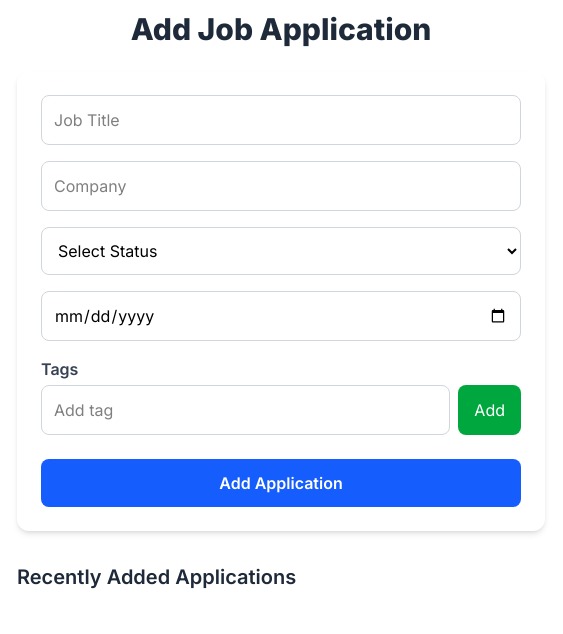
Test: AddPageContent › adds and removes a tag
Type "remote" into the field with placeholder "Add tag" at (246, 410), box 41,385 -> 450,435
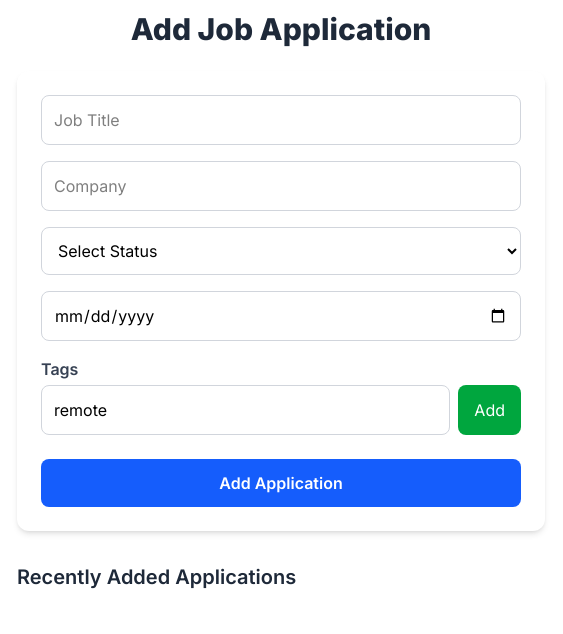
Click the button "Add" at (490, 410), box 458,385 -> 521,435
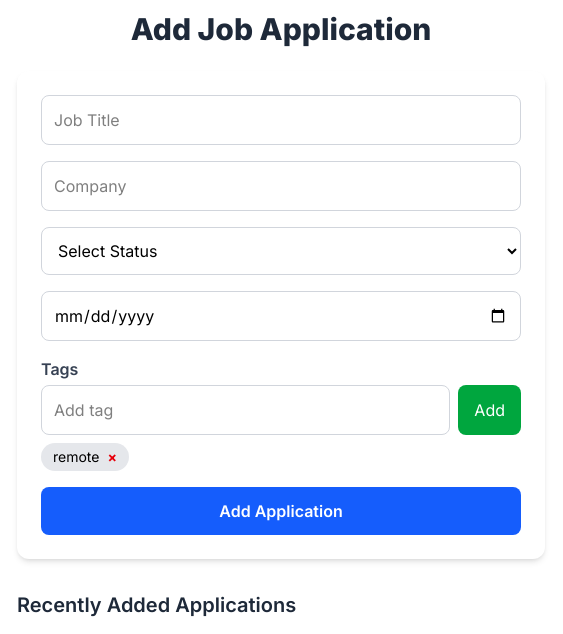
Expected: the text "remote" is shown, 53,448 -> 100,465
Click the button "×" at (112, 457), box 108,447 -> 117,467
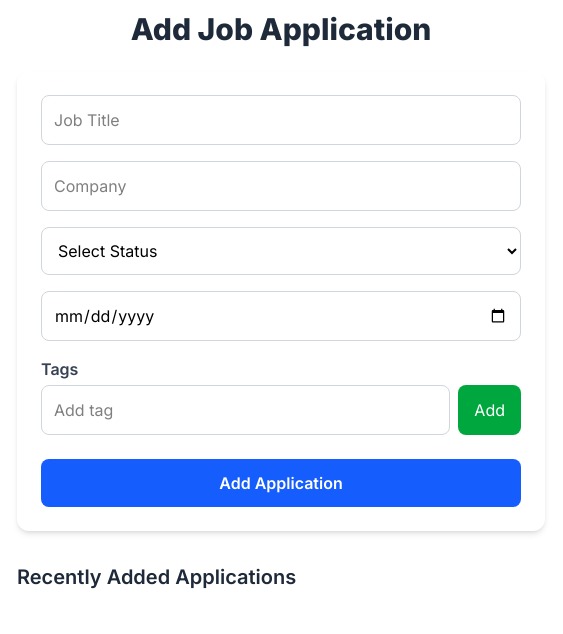
Expected: the text "remote" is gone
